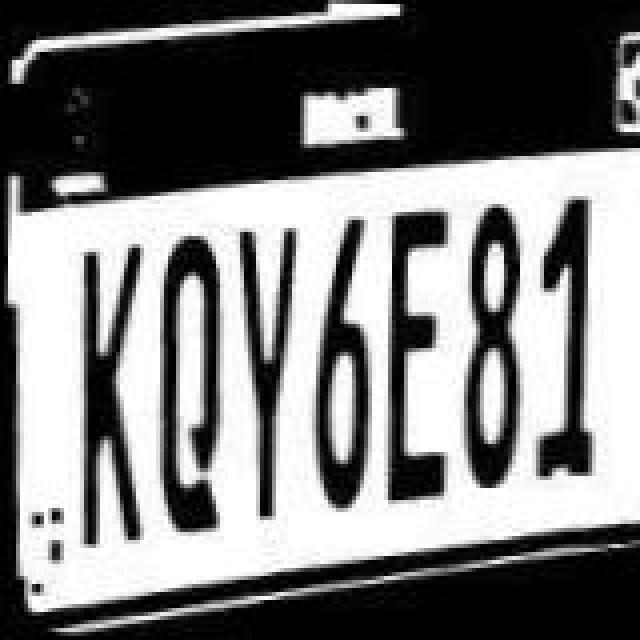1: (524, 194, 612, 486)
6: (300, 214, 376, 506)
8: (454, 196, 530, 488)
E: (372, 202, 456, 510)
K: (64, 234, 156, 550)
Q: (144, 234, 228, 542)
Y: (224, 226, 300, 522)
